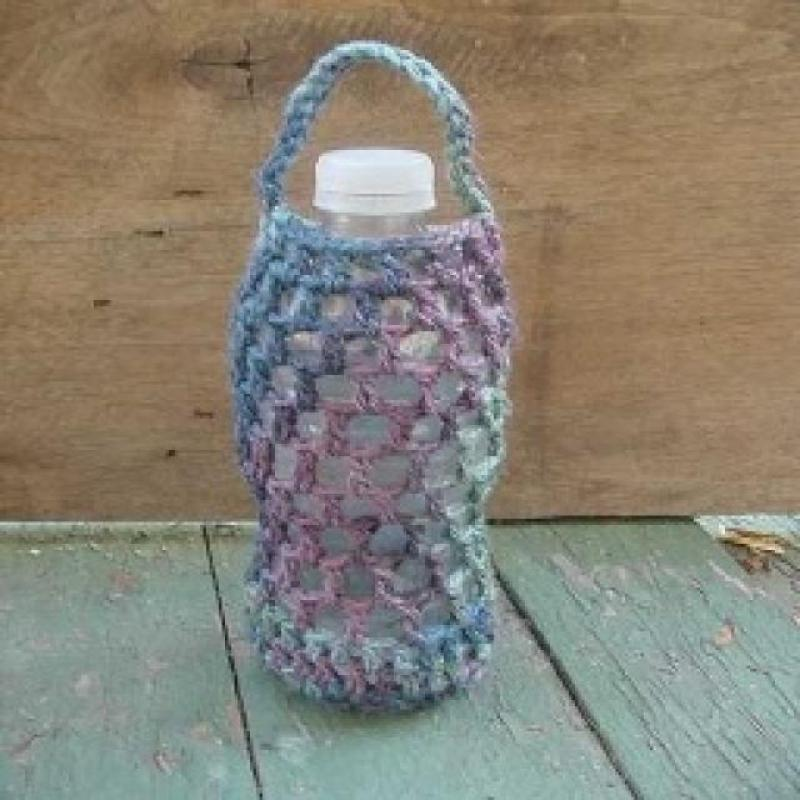botella: (305, 147, 443, 234)
